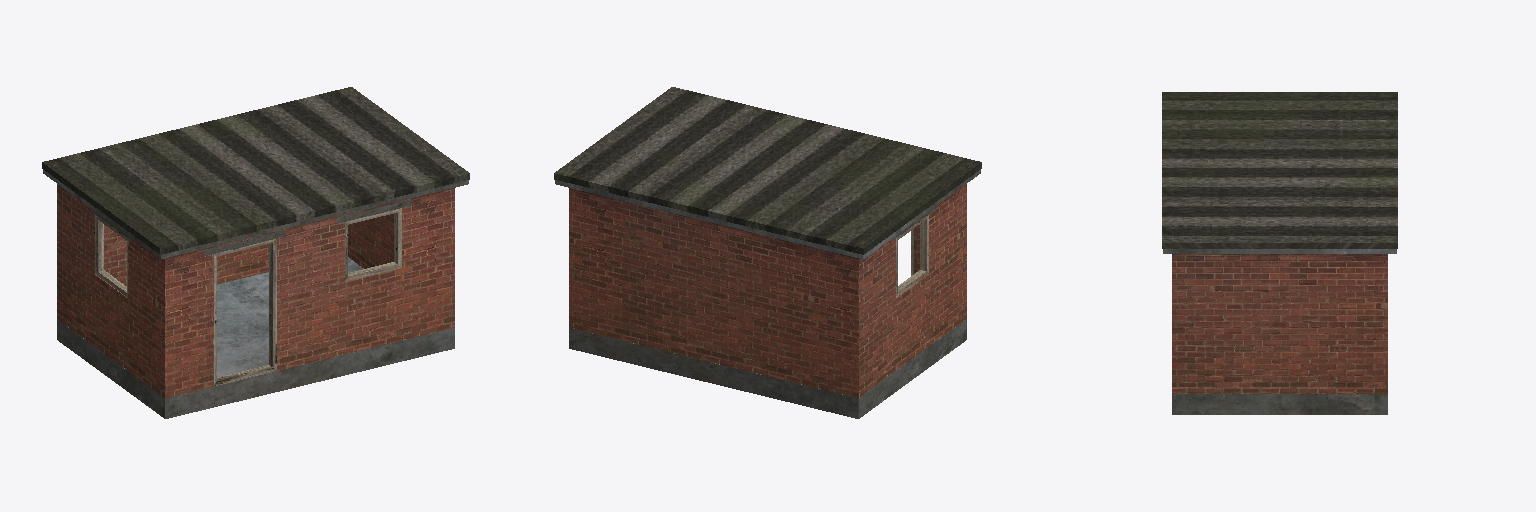
3 views of the same model, side by side, from view 1: azimuth 30°, elevation 25°; view 2: azimuth 150°, elevation 25°; view 3: azimuth 270°, elevation 25° (orthographic).
Parts seen in each view (by area): view 1: BrickOutbuilding; view 2: BrickOutbuilding; view 3: BrickOutbuilding.
Part boxes in pixels (x1,y1,x2,y2): BrickOutbuilding: (42, 87, 469, 418); BrickOutbuilding: (554, 87, 981, 418); BrickOutbuilding: (1162, 92, 1397, 414).
Bounding box in the file's own units: 4.86 × 2.65 × 3.22.
1 materials, 1 textured.